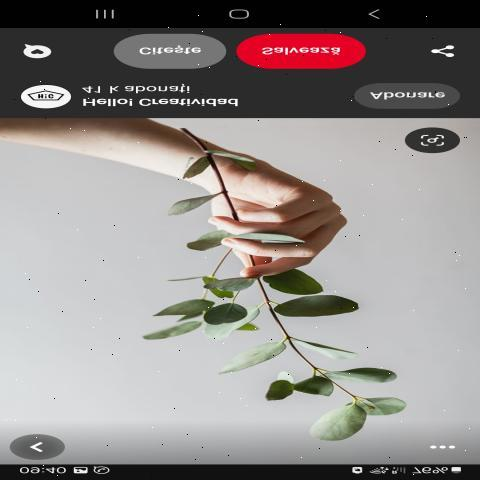Hands: (198, 138, 374, 296)
